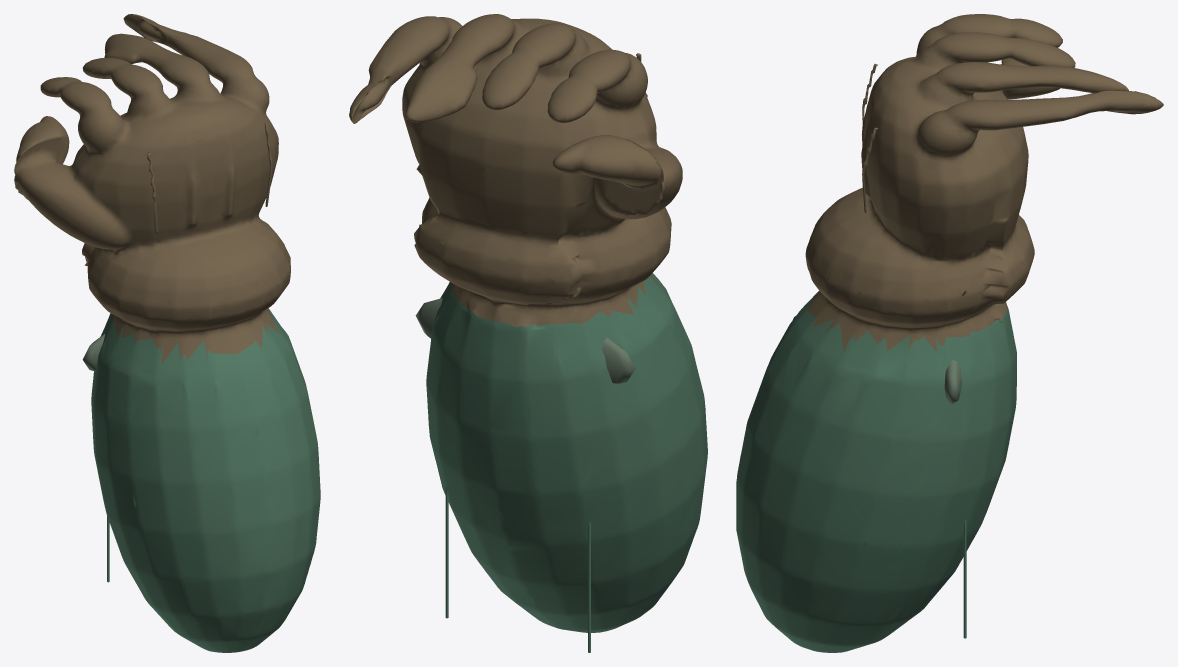
Rendered from ranger_grip_can.glb.
The picture shows the model from 3 angles, left to right: view 1: azimuth 30°, elevation 25°; view 2: azimuth 150°, elevation 25°; view 3: azimuth 270°, elevation 25°; orthographic projection. The views are drawn at different scales.
Visible parts, largest first — view 1: Continuous right glove and forearm.002; view 2: Continuous right glove and forearm.002, Cuff fastener.003; view 3: Continuous right glove and forearm.002, Cuff fastener.003.
Part boxes in pixels (x1=…): Continuous right glove and forearm.002: x1=14, y1=14, x2=320, y2=652; Continuous right glove and forearm.002: x1=349, y1=14, x2=707, y2=632; Cuff fastener.003: x1=415, y1=298, x2=635, y2=383; Continuous right glove and forearm.002: x1=736, y1=14, x2=1163, y2=652; Cuff fastener.003: x1=944, y1=360, x2=962, y2=403.
Size of the model in its own units: 0.1403 by 0.3085 by 0.2005.
